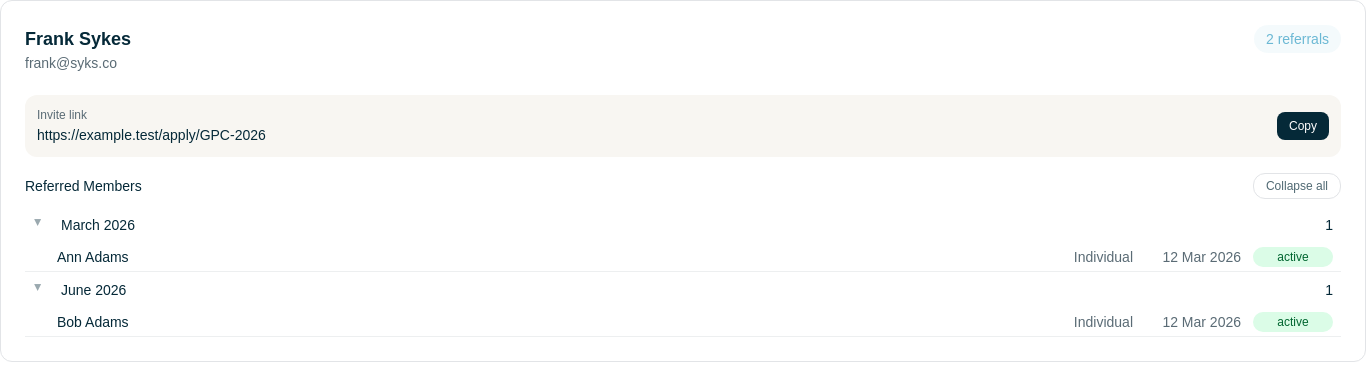
Test case: OriginatorList referred-members breakdown › collapses one month without touching the others
Click the button "▸ March 2026 1" at (98, 225), box 25,207 -> 1341,243
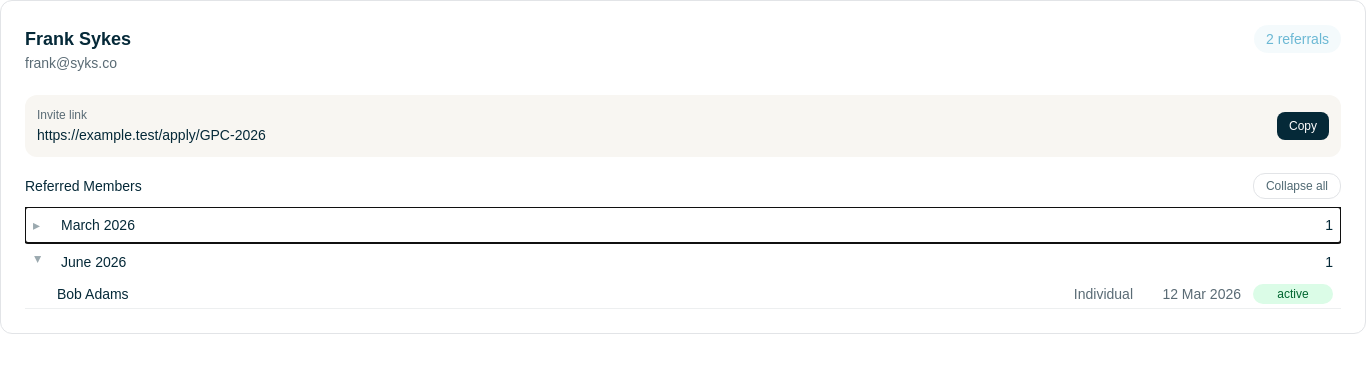
Expected: the text "Bob Adams" is shown, 57,286 -> 129,302
Now the button "▸ March 2026 1" is collapsed
Now the text "Ann Adams" is gone
Click the button "▸ March 2026 1" at (98, 225), box 25,207 -> 1341,243
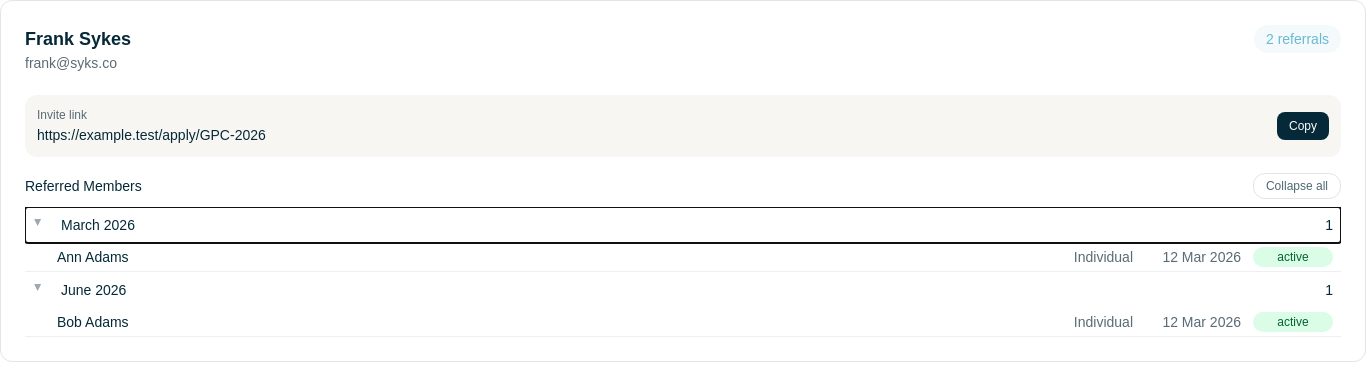
Now the text "Ann Adams" is shown, box 57,249 -> 129,265
